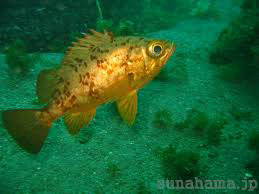mebaru: (0, 14, 184, 154)
